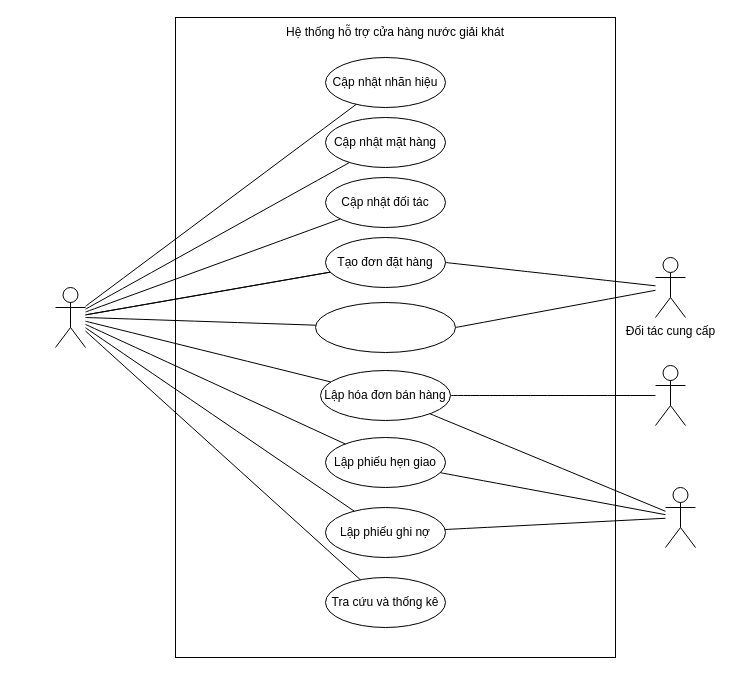
Image size: 756x675. Some labels were removed from this diagram. The shapes that lost their labels are listed below. From the top down, each one's centre as x and y in pixels, then its label:
point (70, 317): Nhân viên bán hàng
point (385, 327): Tiếp nhận đơn đặt hàng
point (670, 395): Người mua lẻ
point (680, 517): Khách hàng thân thiết
